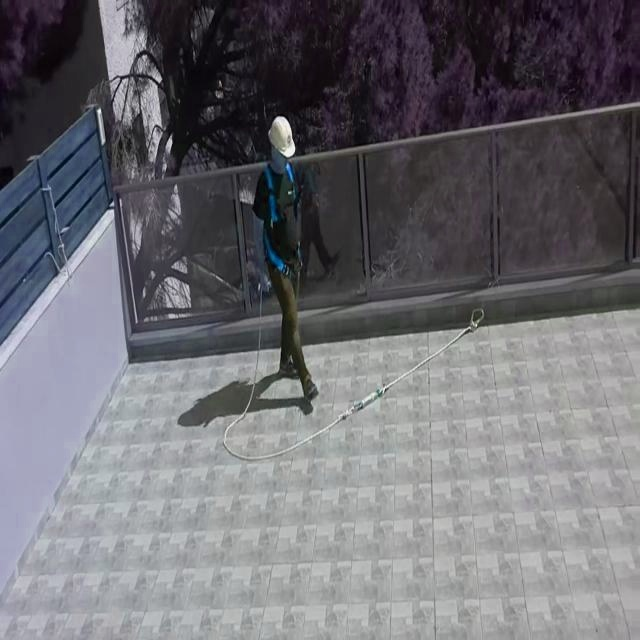safety belt: (264, 167, 303, 278)
